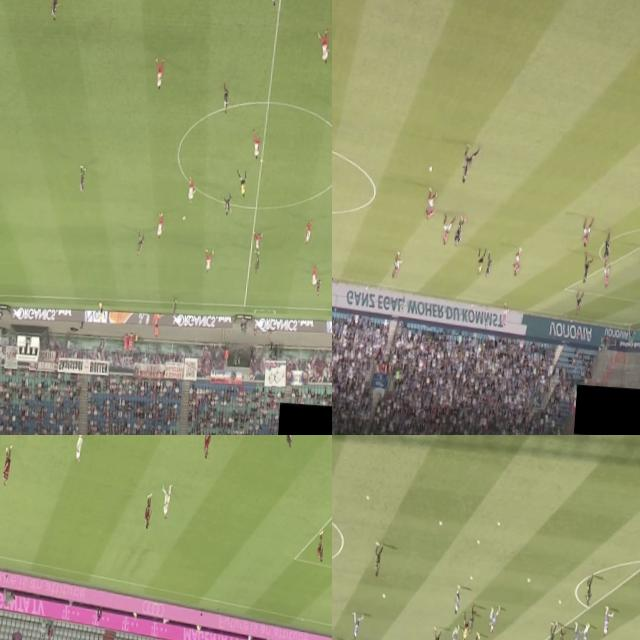ball: (426, 160, 434, 174), (181, 213, 186, 223), (526, 576, 531, 584), (382, 592, 386, 600), (364, 493, 368, 501), (496, 522, 501, 528), (469, 576, 472, 582), (558, 600, 561, 606)
player: (459, 144, 480, 185), (440, 210, 454, 248), (424, 186, 438, 222), (142, 492, 154, 532), (317, 26, 329, 64), (1, 441, 11, 486), (390, 244, 402, 281), (511, 243, 523, 278), (152, 58, 164, 92), (451, 216, 464, 247), (161, 488, 173, 521), (582, 249, 593, 284), (77, 161, 87, 199), (373, 538, 383, 576), (134, 230, 146, 260), (316, 528, 326, 564), (602, 608, 614, 637), (199, 435, 212, 461), (582, 216, 592, 249), (490, 603, 500, 634), (252, 130, 262, 160), (466, 604, 476, 634), (48, 0, 61, 23), (154, 211, 164, 240), (352, 610, 362, 639), (584, 578, 594, 607), (75, 435, 85, 463), (185, 178, 195, 204), (204, 248, 214, 272), (500, 302, 510, 326), (484, 254, 494, 278), (601, 260, 609, 290), (304, 220, 312, 248), (222, 82, 229, 114), (574, 289, 582, 317), (604, 232, 612, 260), (222, 195, 232, 216), (547, 619, 557, 640), (254, 230, 262, 254), (170, 297, 178, 321), (579, 621, 589, 640), (309, 265, 317, 288), (252, 254, 260, 276), (454, 586, 460, 612), (557, 625, 567, 640), (432, 626, 442, 640), (574, 622, 581, 640), (314, 278, 320, 298), (450, 627, 458, 640), (473, 627, 481, 640), (638, 248, 640, 276), (476, 538, 482, 546), (438, 518, 443, 526)
